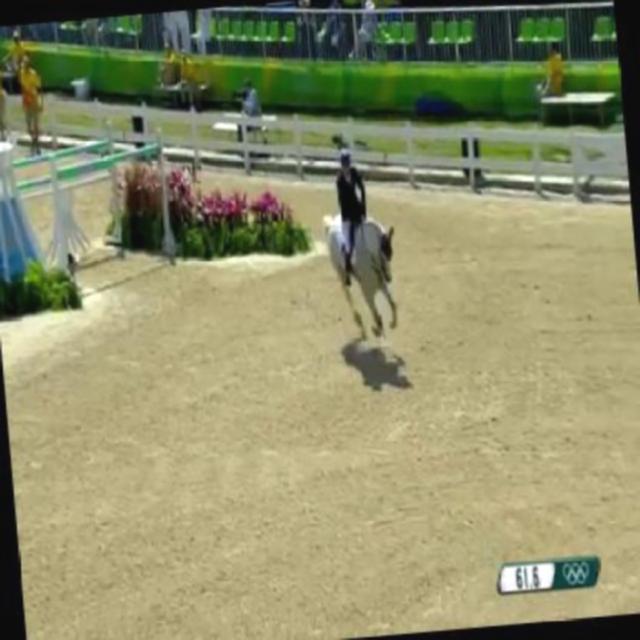non-fight: (318, 147, 400, 346)
